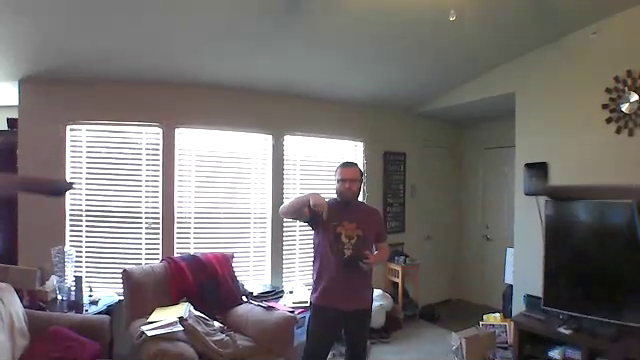down: (307, 189, 329, 223)
